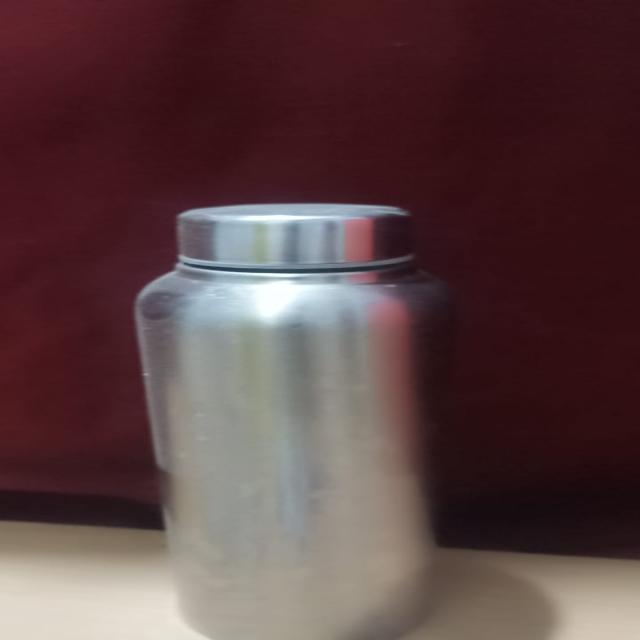bottle: (126, 196, 484, 640)
